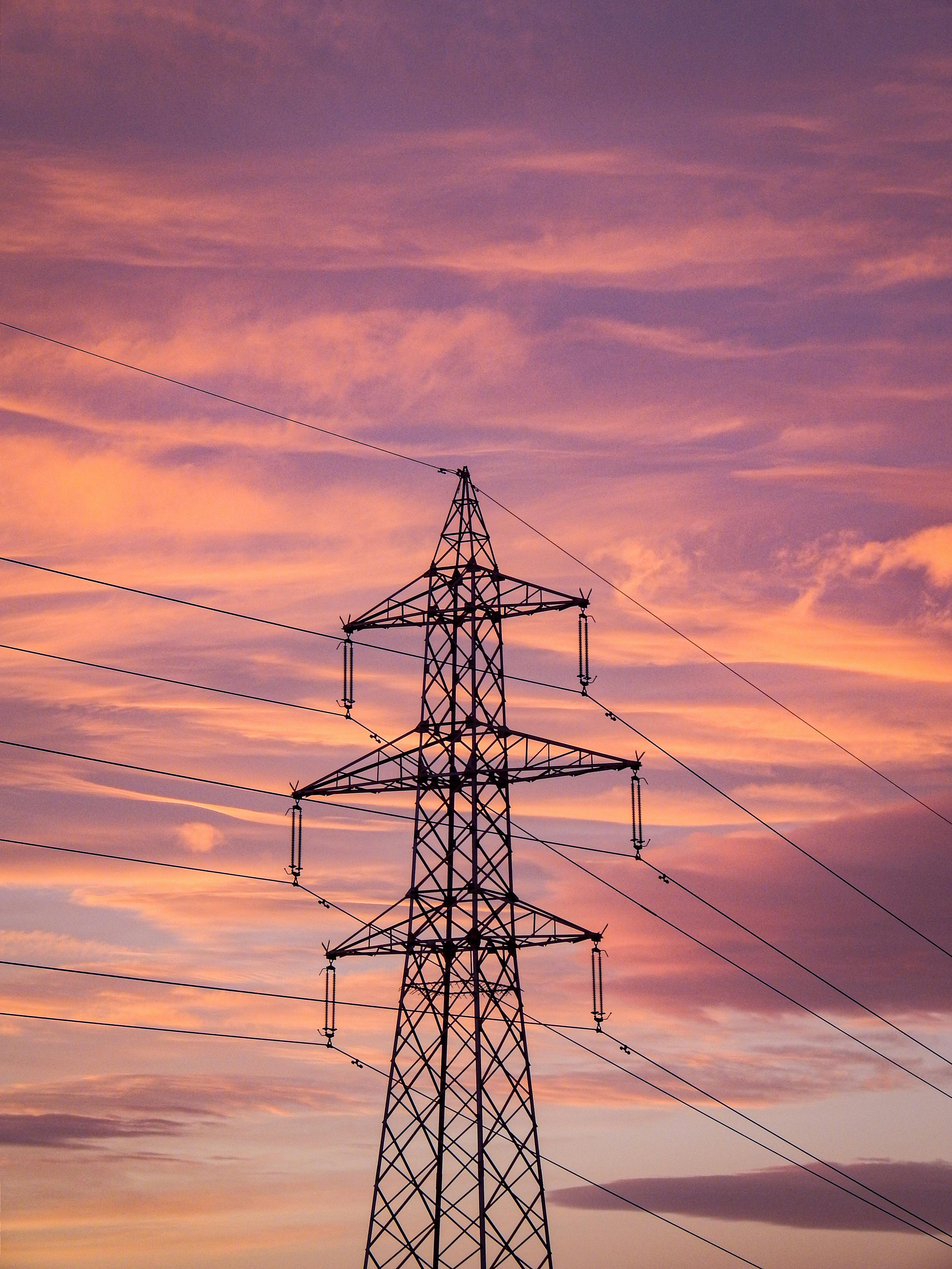insulator: (622, 763, 655, 861), (570, 611, 601, 697), (280, 800, 307, 887), (317, 961, 342, 1043), (590, 939, 610, 1036), (338, 633, 361, 714)
